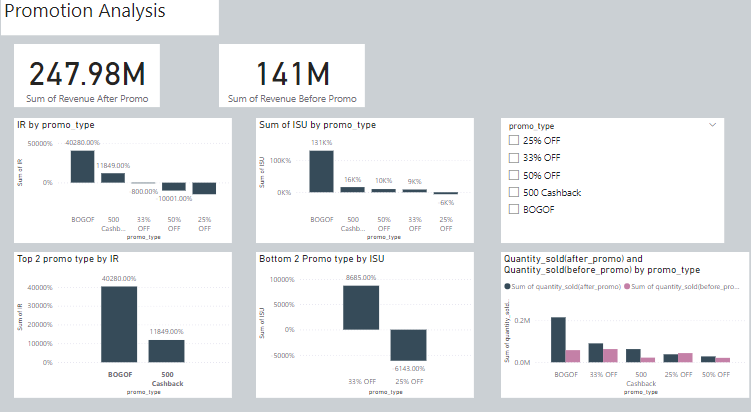

Layout of this report page (visuals, bound fields, positions):
{"tool":"powerbi","page":{"name":"Page 2","canvas":[1280,720],"ordinal":1},"visuals":[{"type":"textbox","box":[10.1,0,366.2,70.6],"z":0},{"type":"columnChart","title":"Top 2 promo type by IR","fields":{"Category":["fact_events2.promo_type"],"Y":["Sum(fact_events2.IR)"]},"box":[31.9,435.1,366.2,245.2],"z":1},{"type":"columnChart","title":"Bottom 2 Promo type by ISU","fields":{"Category":["fact_events2.promo_type"],"Y":["Sum(fact_events2.ISU)"]},"box":[438.4,435.1,366.2,245.2],"z":2},{"type":"columnChart","title":" IR by promo_type","fields":{"Category":["fact_events2.promo_type"],"Y":["Sum(fact_events2.IR)"]},"box":[31.9,210,366.2,210],"z":3},{"type":"columnChart","fields":{"Y":["Sum(fact_events2.ISU)"],"Category":["fact_events2.promo_type"]},"box":[438.4,210,366.2,210],"z":4},{"type":"card","fields":{"Values":["Sum(fact_events2.Revenue After Promo)"]},"box":[31.9,85.7,245.2,105.8],"z":5},{"type":"card","fields":{"Values":["Sum(fact_events2.Revenue Before Promo)"]},"box":[376.3,85.7,245.2,105.8],"z":6},{"type":"clusteredColumnChart","title":"Quantity_sold(after_promo) and Quantity_sold(before_promo) by promo_type","fields":{"Category":["fact_events2.promo_type"],"Y":["Sum(fact_events2.quantity_sold(after_promo))","Sum(fact_events2.quantity_sold(before_promo))"]},"box":[850,435.1,416.6,245.2],"z":7},{"type":"slicer","fields":{"Values":["fact_events2.promo_type"]},"box":[850,210,374.6,210],"z":8}]}

Visuals, with their boxes in screenshot pixels (x1, y1, x2, y2), scaled from the page's 1280x720 canvas onto the 751x412 screenshot:
textbox: bbox(6, 0, 221, 40)
"Top 2 promo type by IR" columnChart: bbox(19, 249, 234, 389)
"Bottom 2 Promo type by ISU" columnChart: bbox(257, 249, 472, 389)
" IR by promo_type" columnChart: bbox(19, 120, 234, 240)
columnChart - Sum(fact_events2.ISU) x fact_events2.promo_type: bbox(257, 120, 472, 240)
card - Sum(fact_events2.Revenue After Promo): bbox(19, 49, 163, 110)
card - Sum(fact_events2.Revenue Before Promo): bbox(221, 49, 365, 110)
"Quantity_sold(after_promo) and Quantity_sold(before_promo) by promo_type" clusteredColumnChart: bbox(499, 249, 743, 389)
slicer - fact_events2.promo_type: bbox(499, 120, 718, 240)
